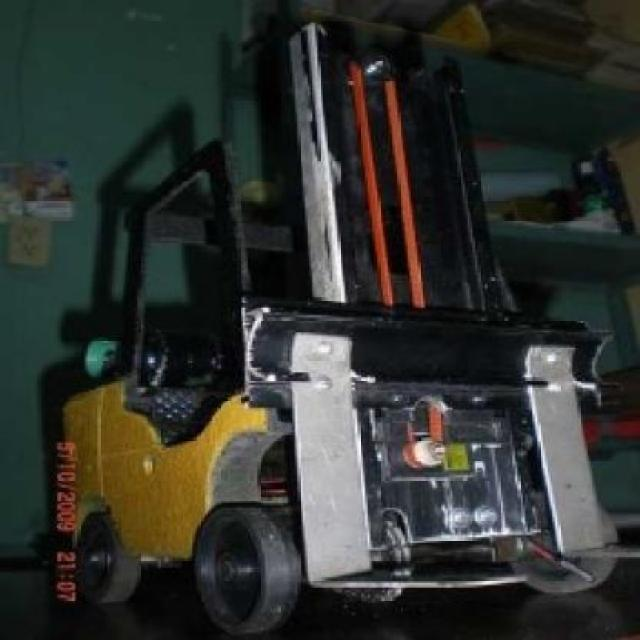forklift: (65, 23, 633, 634)
